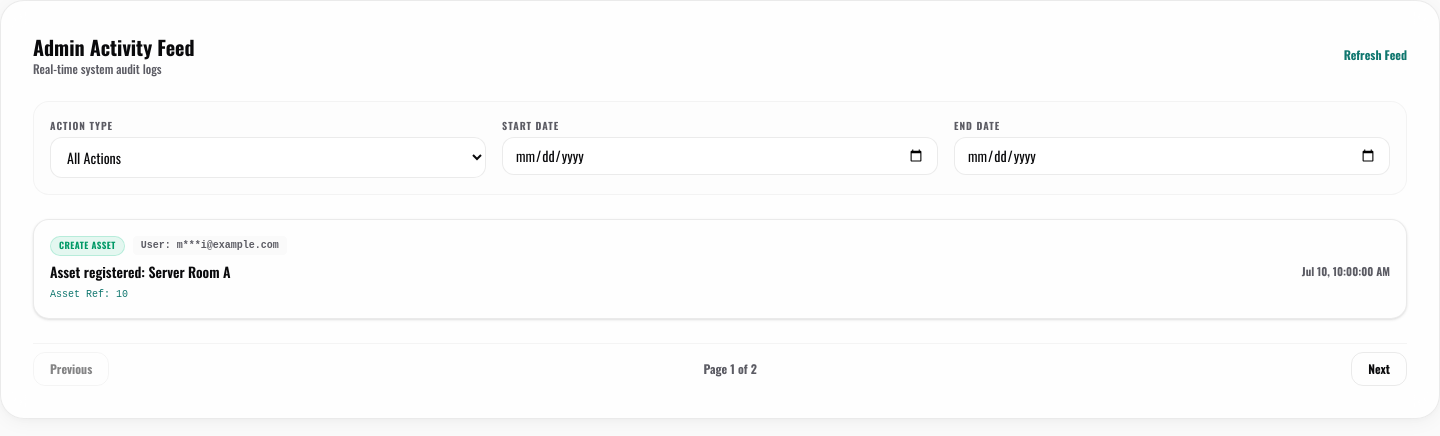
AdminActivityFeed Component Tests › should render audit logs and handle filters and pagination
Expected: the text "Asset registered: Server Room A" is shown, [50,260,230,282]
Expected: the text "User: m***i@example.com" is shown, [133,236,287,255]
Click the button "Next": (1379, 369) [1351,352,1407,386]
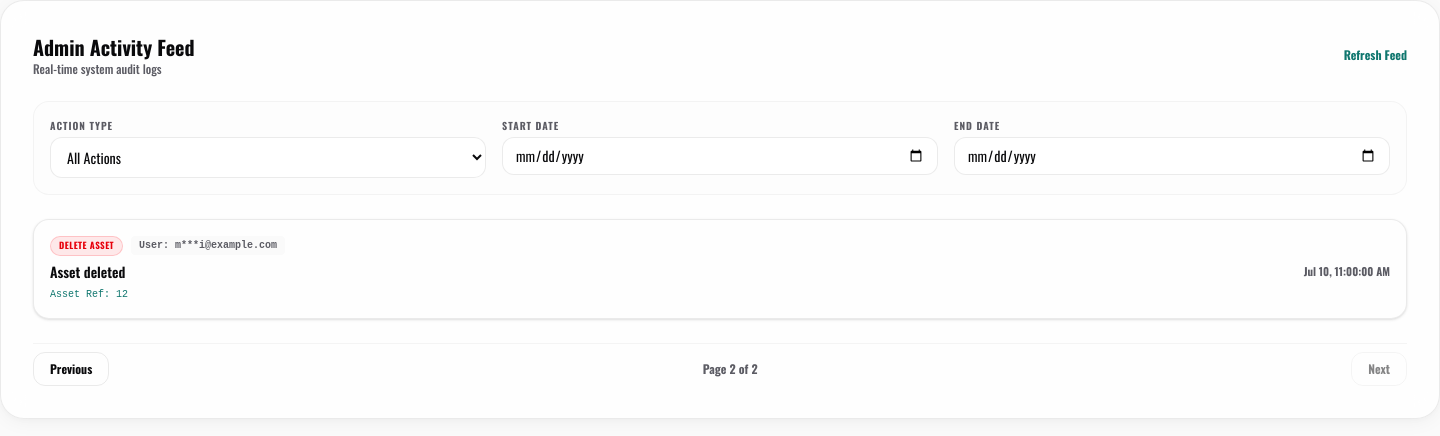
Expected: the text "Asset deleted" is shown, [50,260,125,282]
